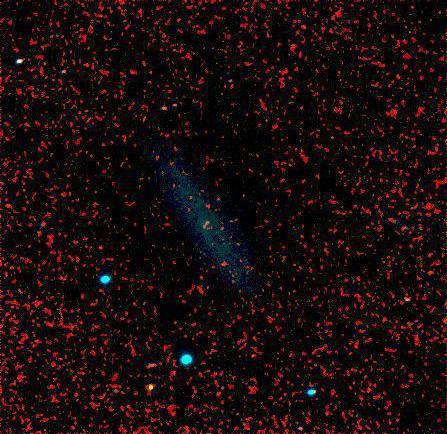star: (135, 373, 165, 403)
